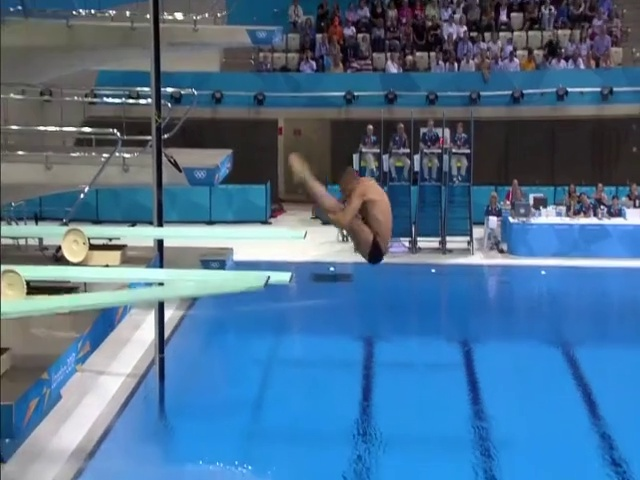diver: (287, 151, 393, 265)
